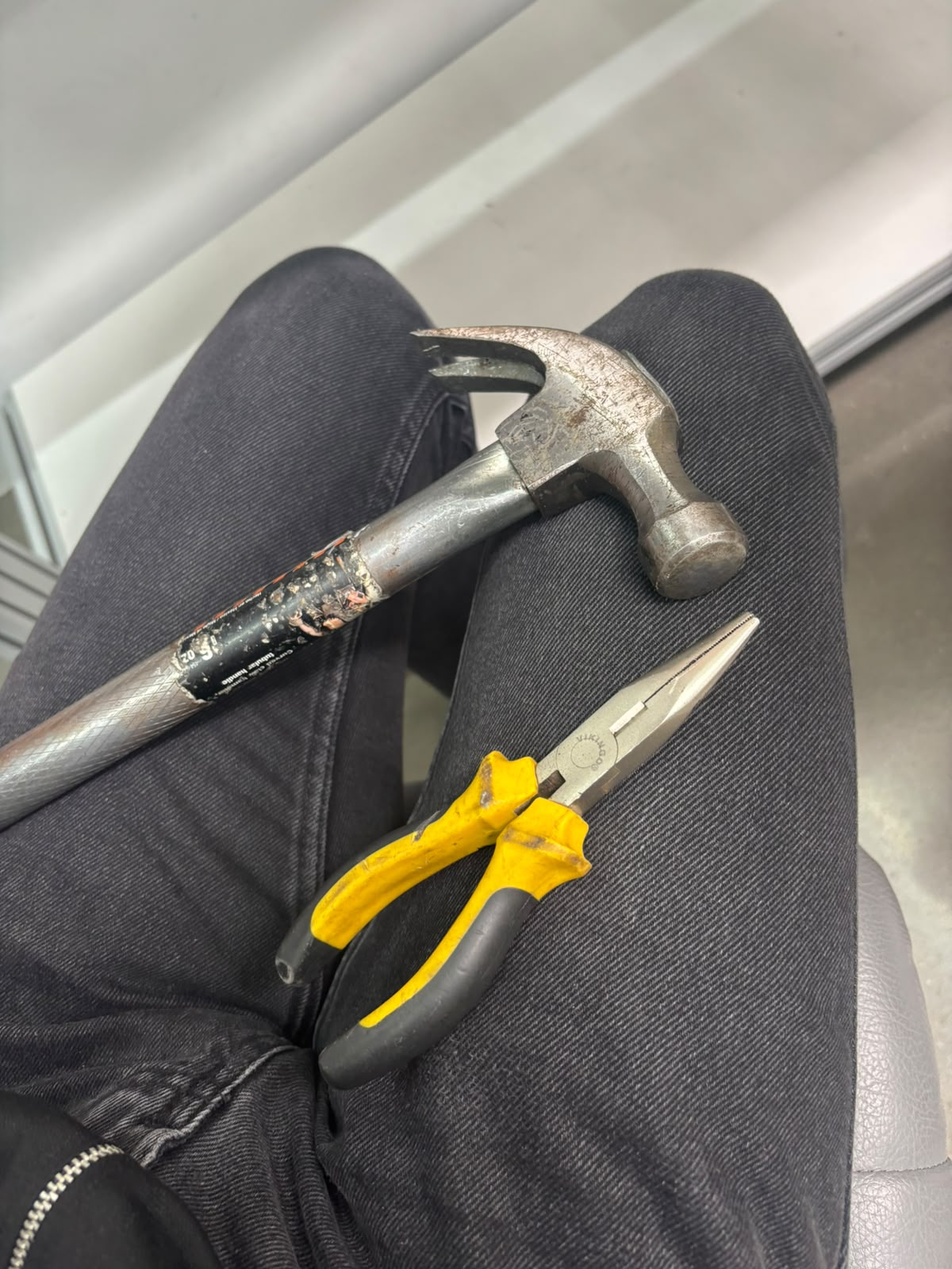hammer: (369, 218, 805, 604)
plier: (317, 616, 838, 1079)
